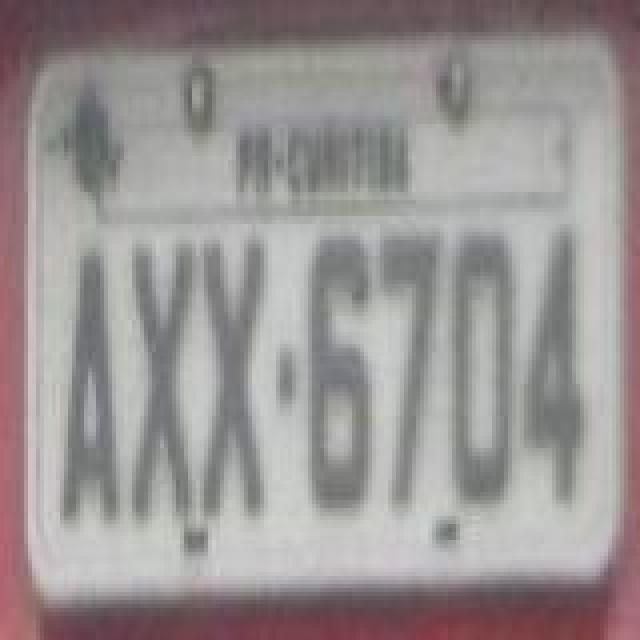4: (520, 224, 584, 504)
6: (306, 234, 374, 518)
7: (376, 226, 440, 510)
A: (56, 242, 120, 526)
O: (446, 226, 514, 510)
X: (126, 242, 194, 526), (198, 238, 266, 522)
